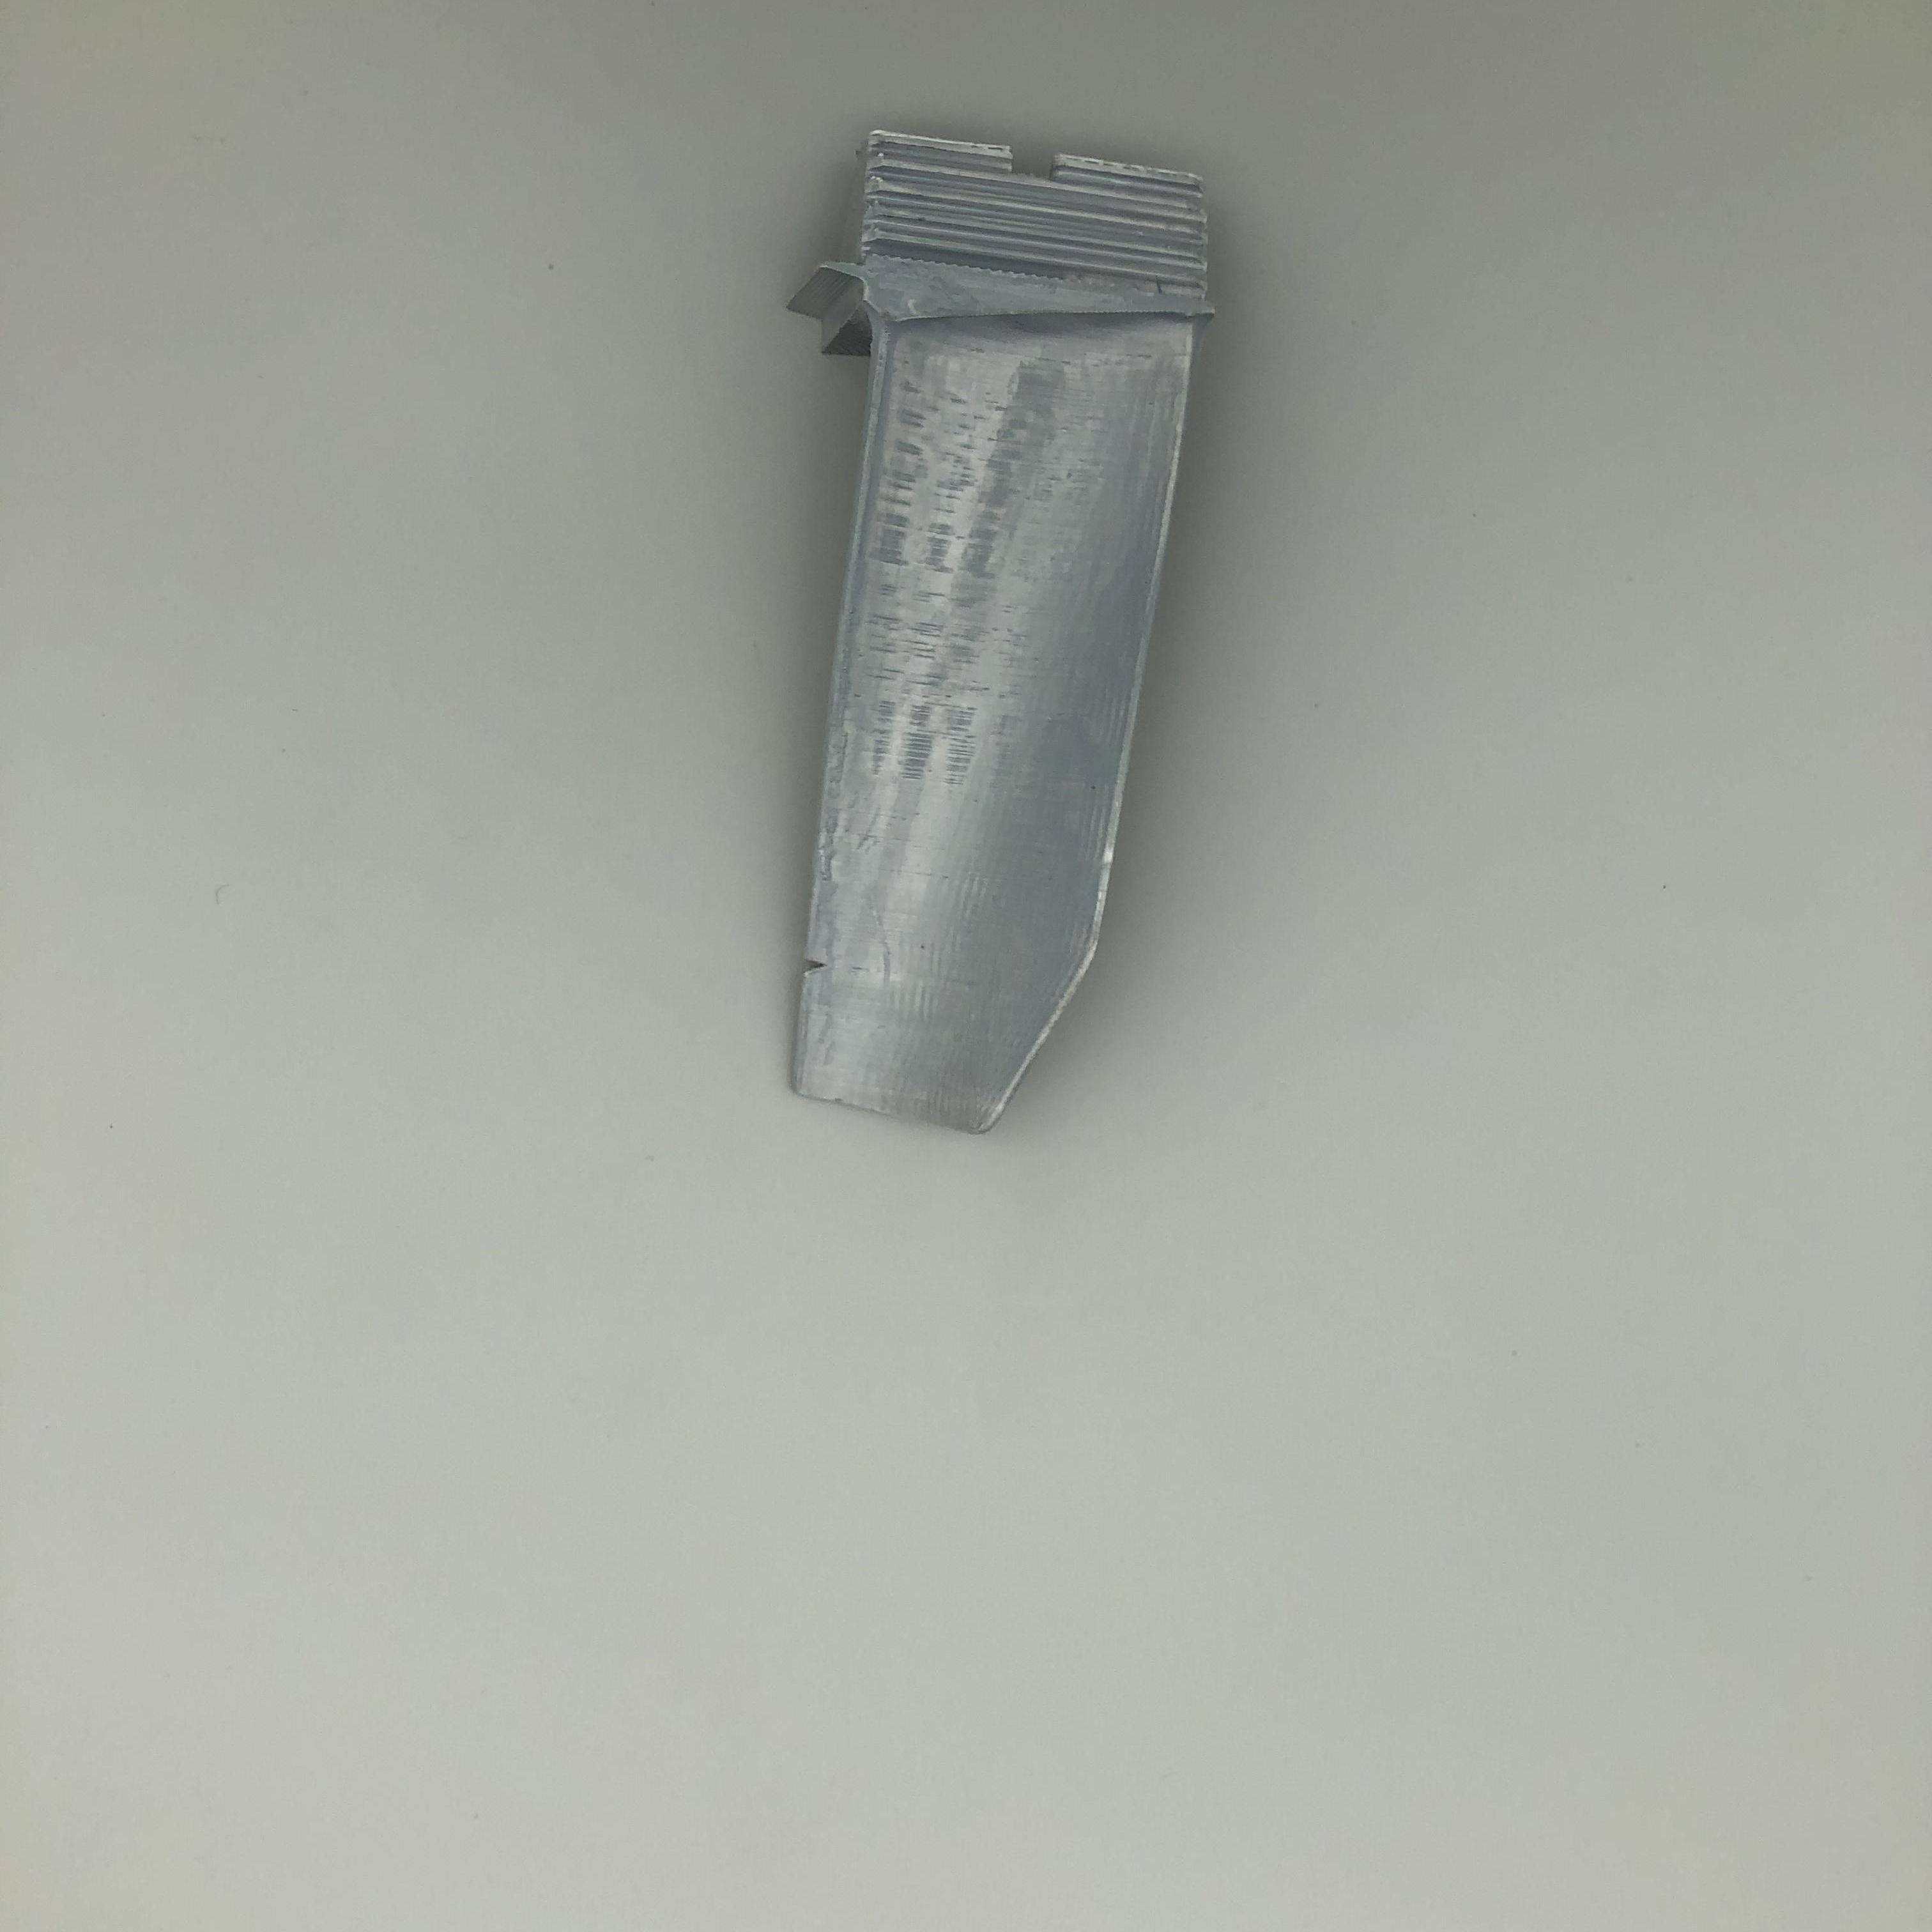groove: (803, 945, 842, 991)
